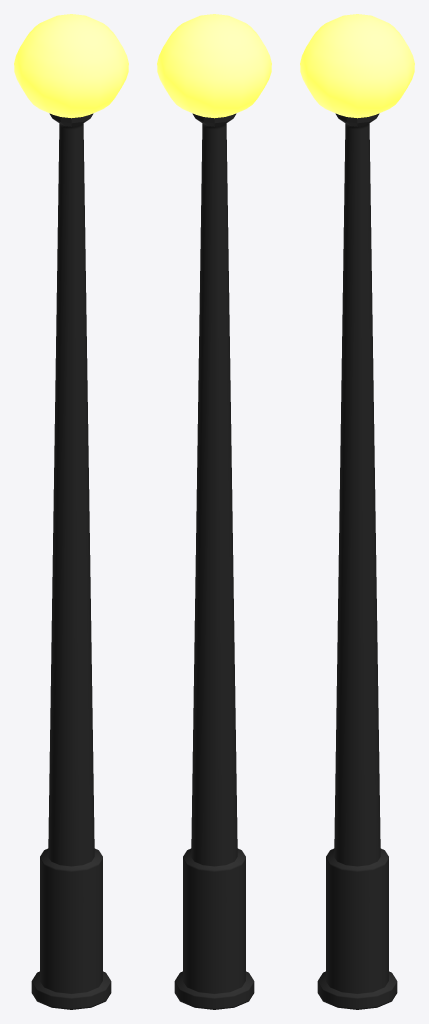
Rendered from FarolaModernaBola.fbx.
3 views of the same model, side by side, from view 1: azimuth 90°, elevation 25°; view 2: azimuth 210°, elevation 25°; view 3: azimuth 270°, elevation 25° (orthographic).
Parts seen in each view (by area): view 1: FarolaModernaBola; view 2: FarolaModernaBola; view 3: FarolaModernaBola.
Boxes of the visible parts, x1,y1,x2,y2 form: FarolaModernaBola: [14, 14, 128, 1009]; FarolaModernaBola: [157, 14, 271, 1009]; FarolaModernaBola: [300, 14, 414, 1009].
Bounding box in the file's own units: 37.55 × 351 × 37.55.
